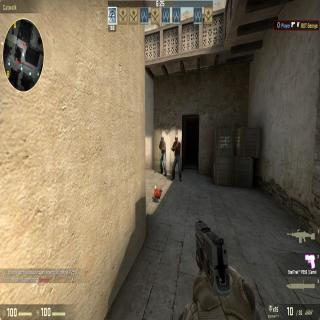T-Body: (172, 134, 180, 181), (159, 134, 166, 176)
T-Head: (174, 135, 180, 142), (160, 135, 164, 142)
